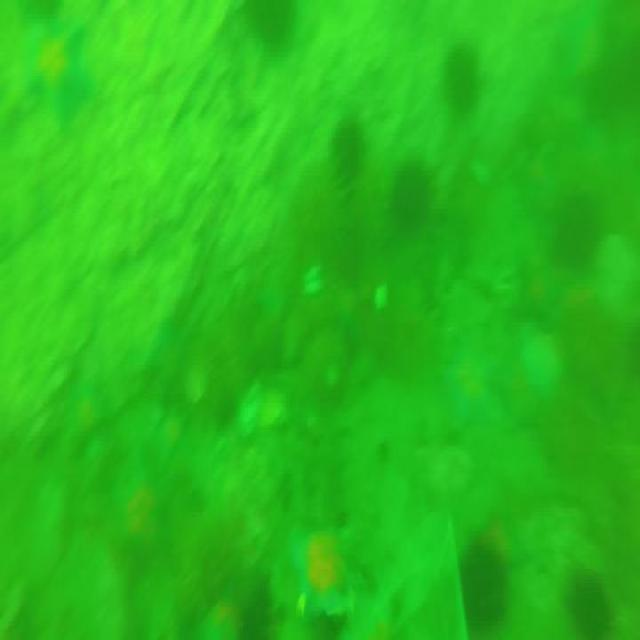echinus: (456, 538, 510, 638), (550, 190, 603, 267), (386, 161, 434, 231), (439, 46, 485, 115), (563, 572, 613, 634), (331, 112, 362, 182), (246, 2, 300, 41)
scallop: (236, 382, 260, 440), (184, 365, 205, 406)
starfish: (289, 526, 363, 618), (440, 355, 504, 430), (514, 324, 570, 403)
